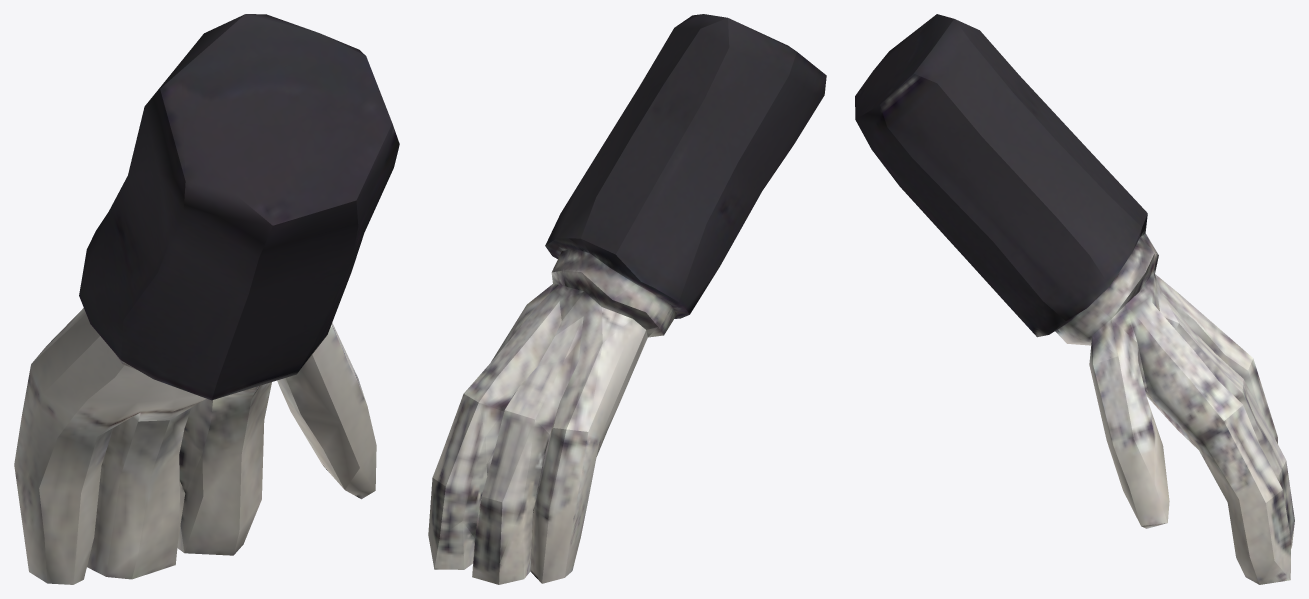
The model's file is codo-izquierdo-ca.obj.
3 renders of one model, left to right at view 1: azimuth 30°, elevation 25°; view 2: azimuth 150°, elevation 25°; view 3: azimuth 270°, elevation 25°, orthographic. The views are drawn at different scales.
Parts seen in each view (by area): view 1: model.058; view 2: model.058; view 3: model.058.
Boxes of the visible parts, x1,y1,x2,y2 form: model.058: [14, 14, 399, 584]; model.058: [428, 14, 826, 584]; model.058: [855, 14, 1294, 584].
Bounding box in the file's own units: 0.0415 × 0.0782 × 0.0632.
Materials: 1 (1 with a texture image).
